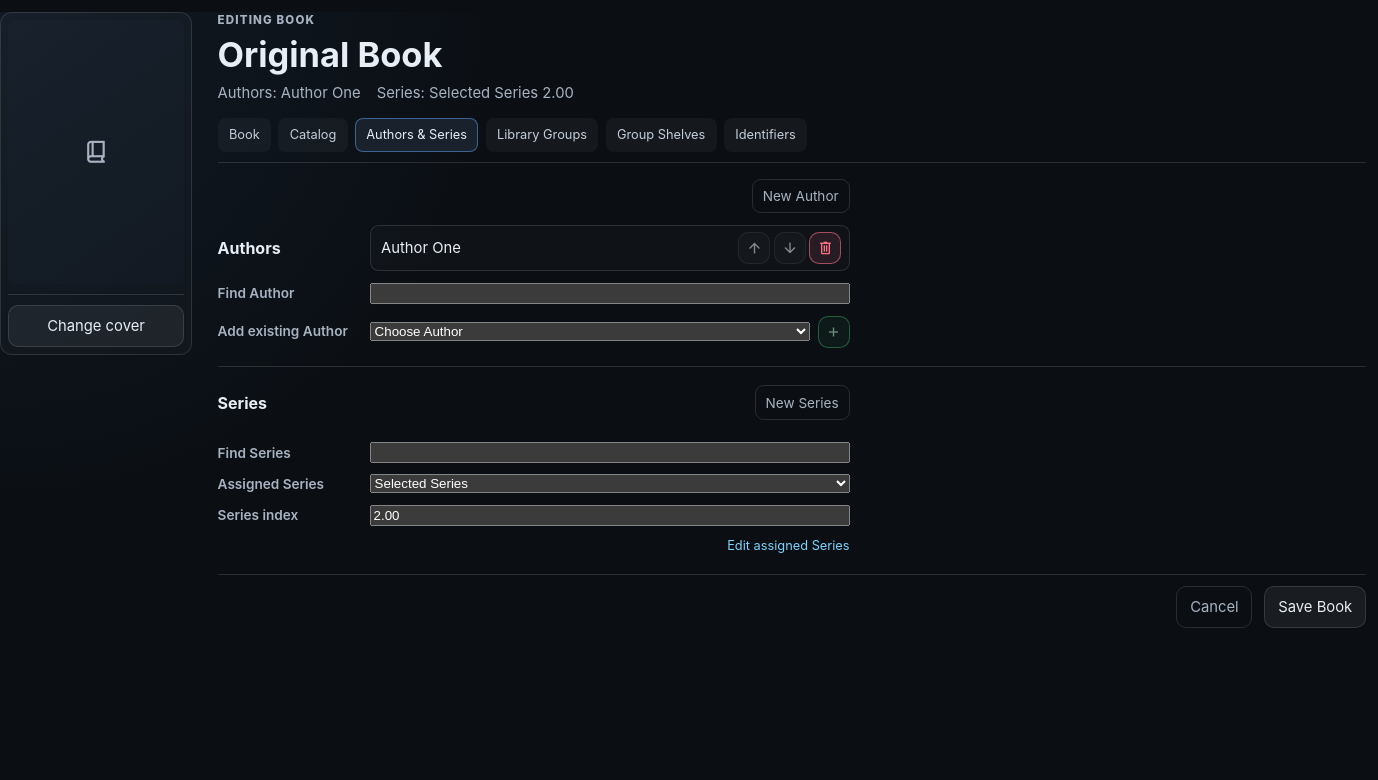
Scenario: BookEditOrchestrator › retains selected relationships when bounded results do not contain them
The width and height of the screenshot is (1378, 780).
Expected: the dropdown with id "book-edit-series" shows "Selected Series", [370,474,850,494]
Expected: the number field with id "book-edit-series-index" holds "2.00", [370,504,850,526]
Click the tab "Catalog".
click(313, 135)  # box [278,118,348,152]
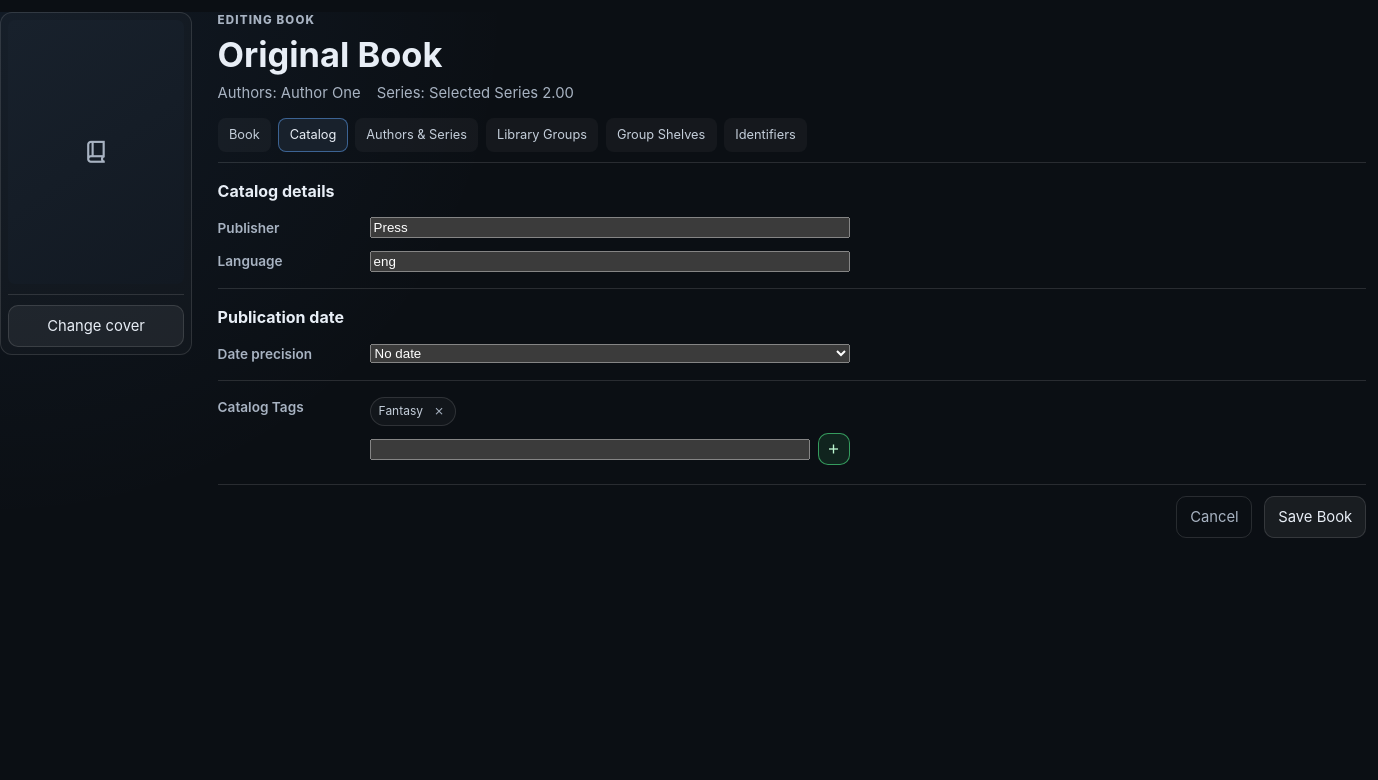
Expected: the text "Fantasy" is shown, [370,397,456,426]
Click the tab "Library Groups".
click(542, 135)  # box [486,118,598,152]
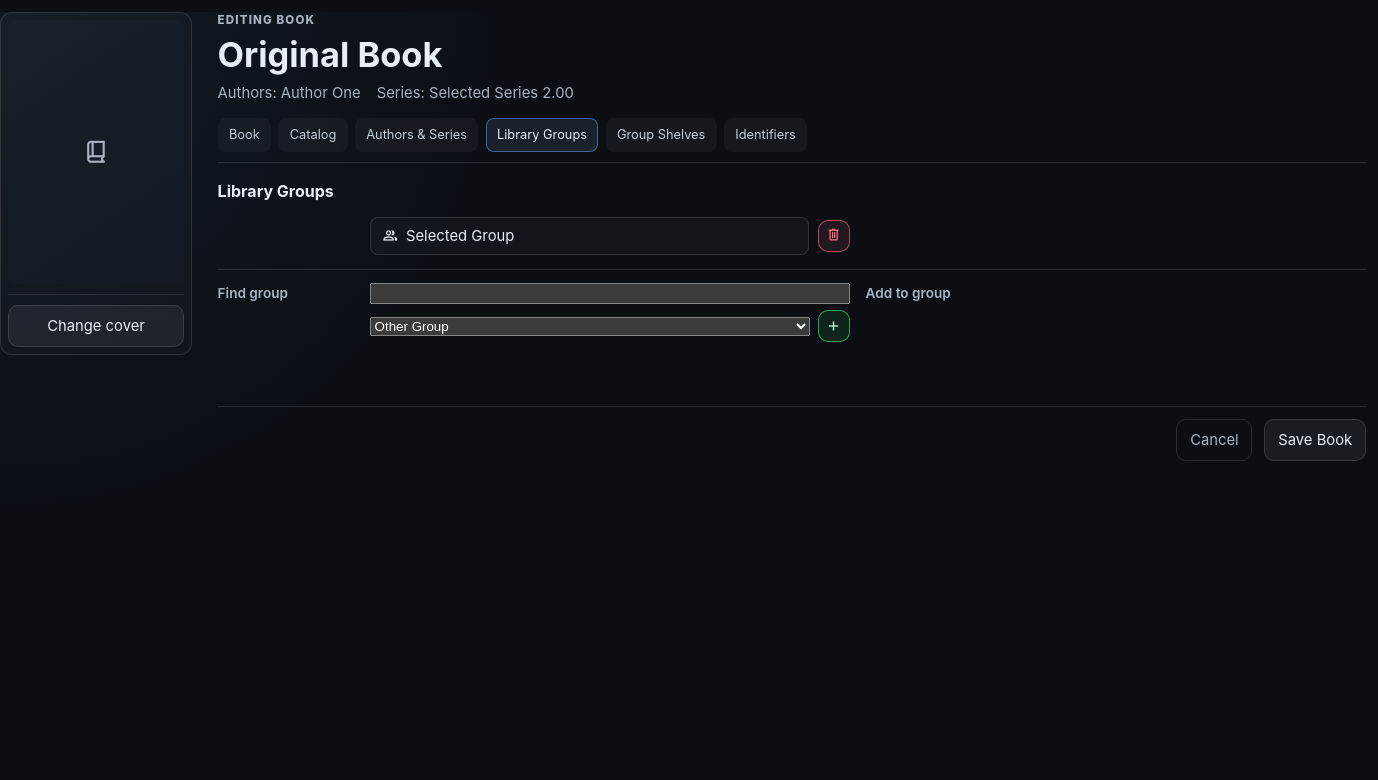
Expected: the text "Selected Group" is shown, [406,225,514,247]
